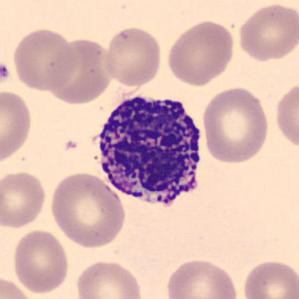Basophil: (87, 86, 210, 217)
Platelets: (0, 60, 12, 86)
RBC: (47, 170, 128, 250), (200, 84, 272, 166), (164, 18, 237, 87), (42, 36, 116, 104), (10, 27, 78, 92), (10, 227, 71, 295), (236, 1, 298, 62), (103, 25, 164, 87), (164, 257, 240, 299), (73, 258, 146, 299), (0, 169, 48, 230), (0, 88, 34, 168), (240, 257, 298, 299), (272, 80, 298, 152), (0, 274, 36, 299)
